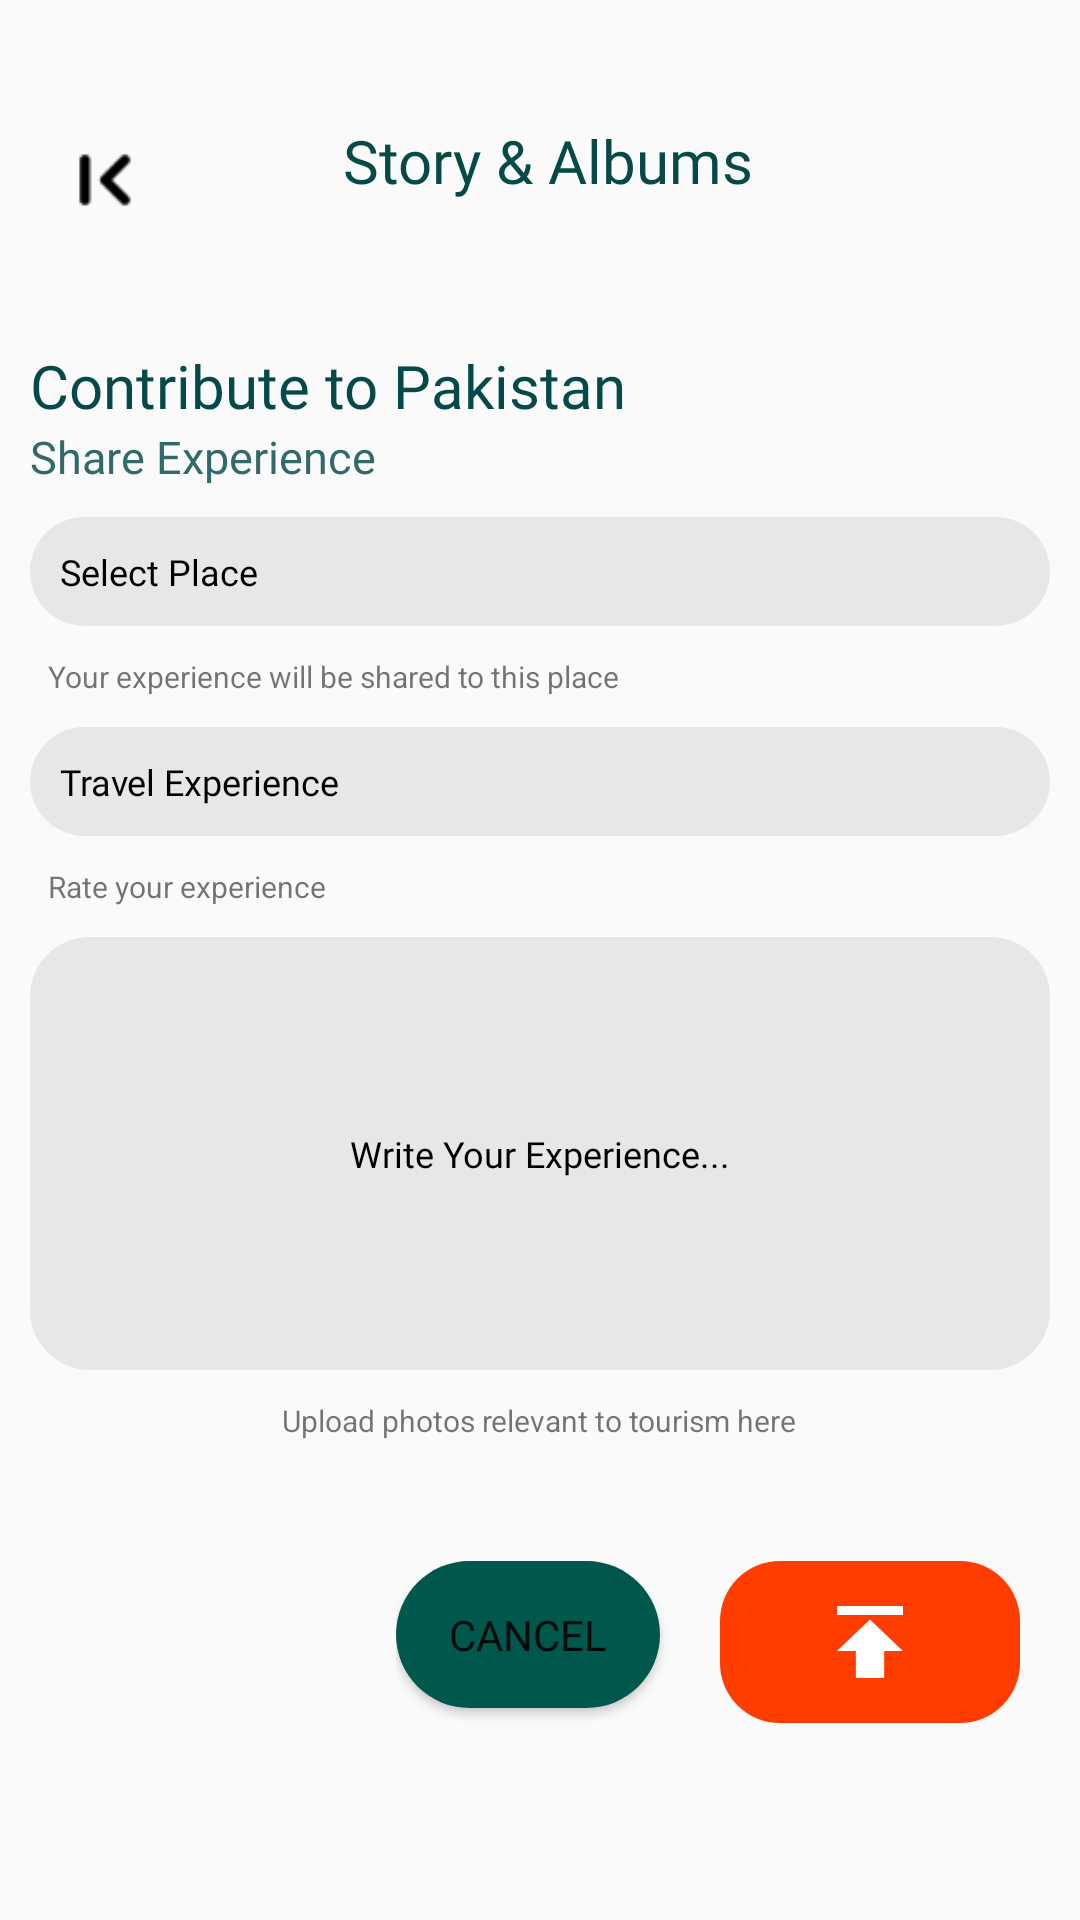

Screen size 1080px x 1920px. Icon name, then its box in pixels as (x1, y1, x2, y2):
back: (79, 154, 131, 206)
